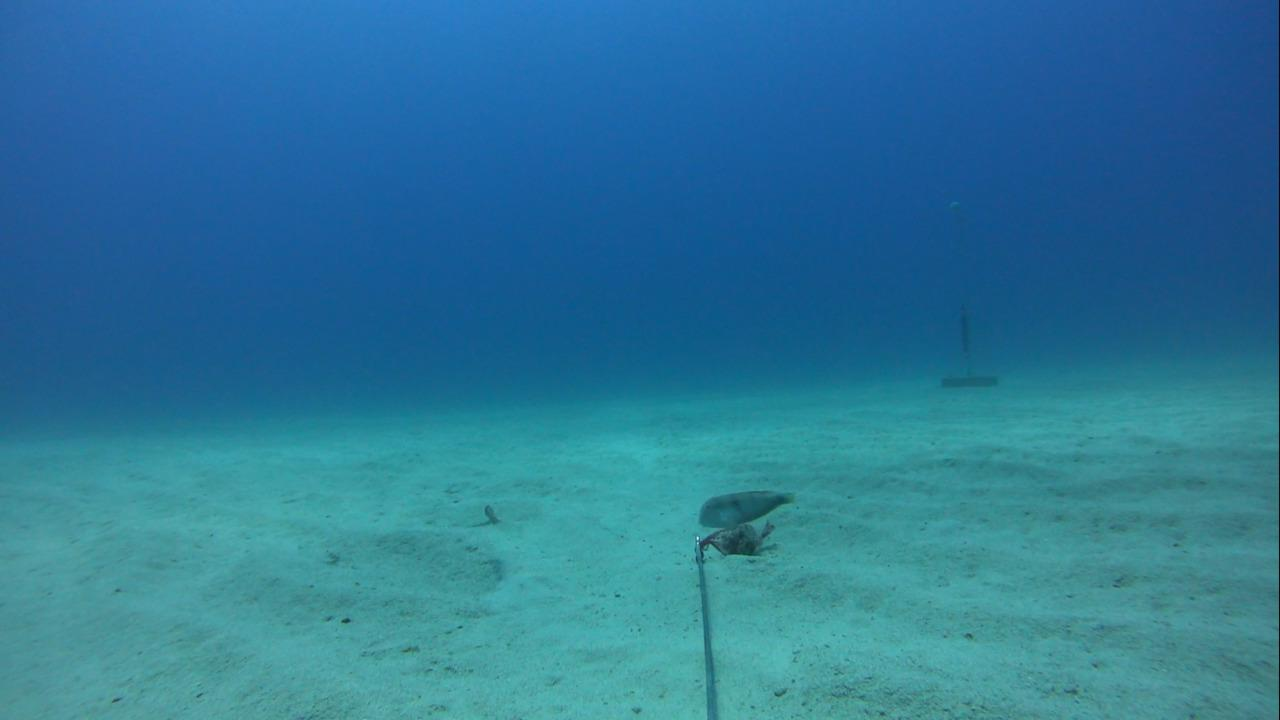raor: (693, 484, 802, 533)
